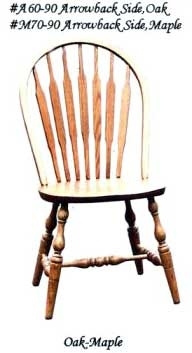obstacle: (20, 42, 179, 318)
